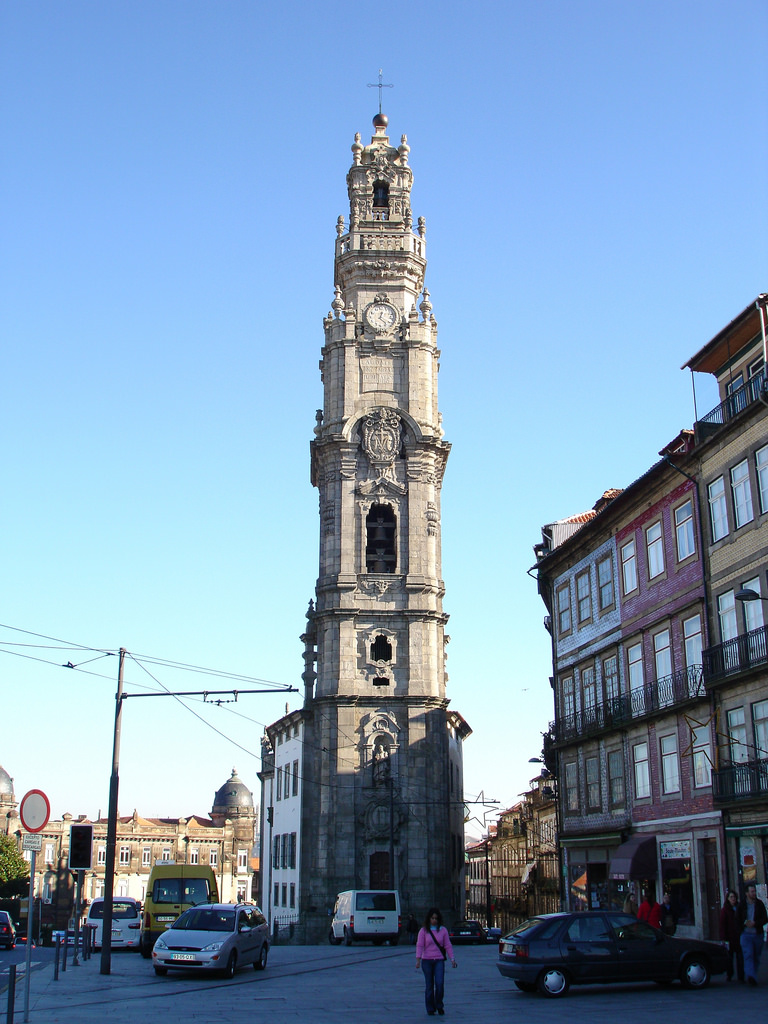clerigos: (298, 68, 450, 915)
